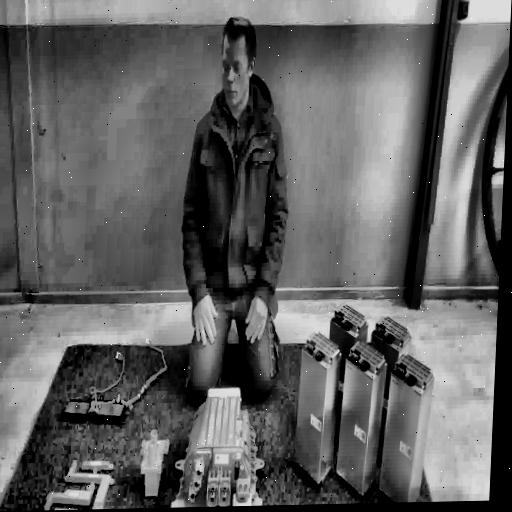battery_module: (378, 350, 435, 503), (334, 340, 387, 496), (294, 331, 342, 484), (371, 314, 412, 350), (330, 303, 370, 337)
bms_unit: (172, 387, 269, 508)
busbar: (40, 457, 118, 511)
connector: (137, 428, 171, 498)
high_volt_cable: (89, 329, 171, 411)
